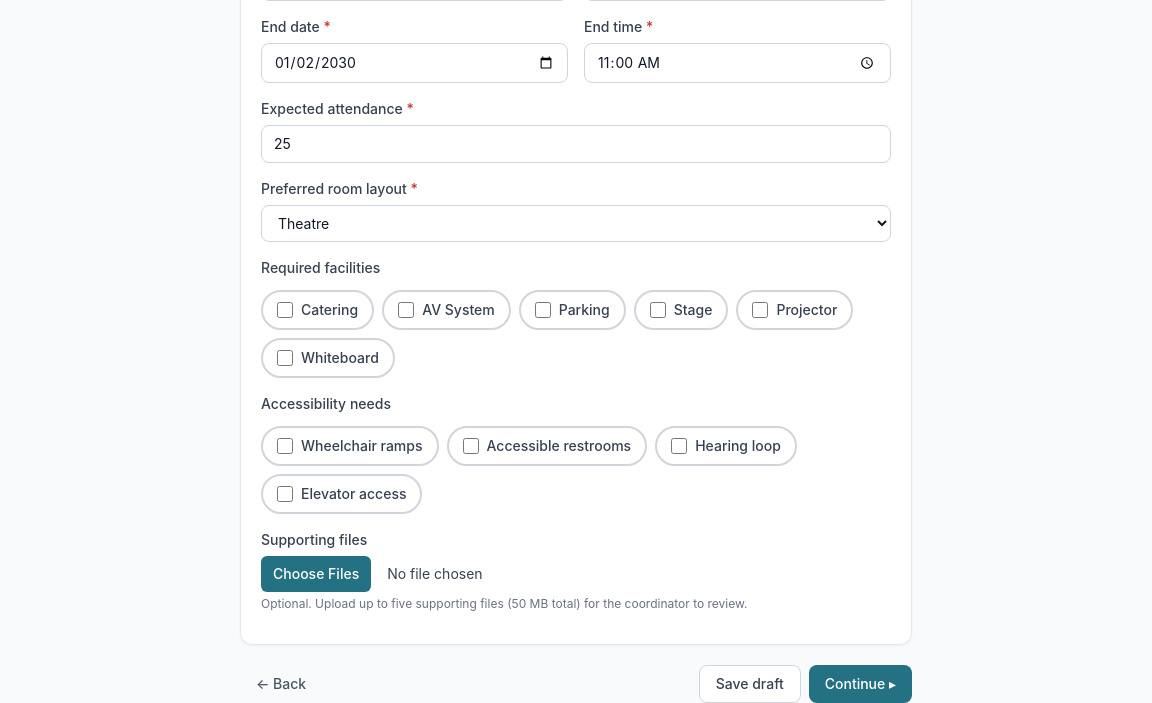
Test case: SPM-37 Q2 functional cases › Q2-001 saves incomplete values from wizard step 1
(page scrolled)
Click the button "Save draft" at (750, 684), box [699,665,801,702]
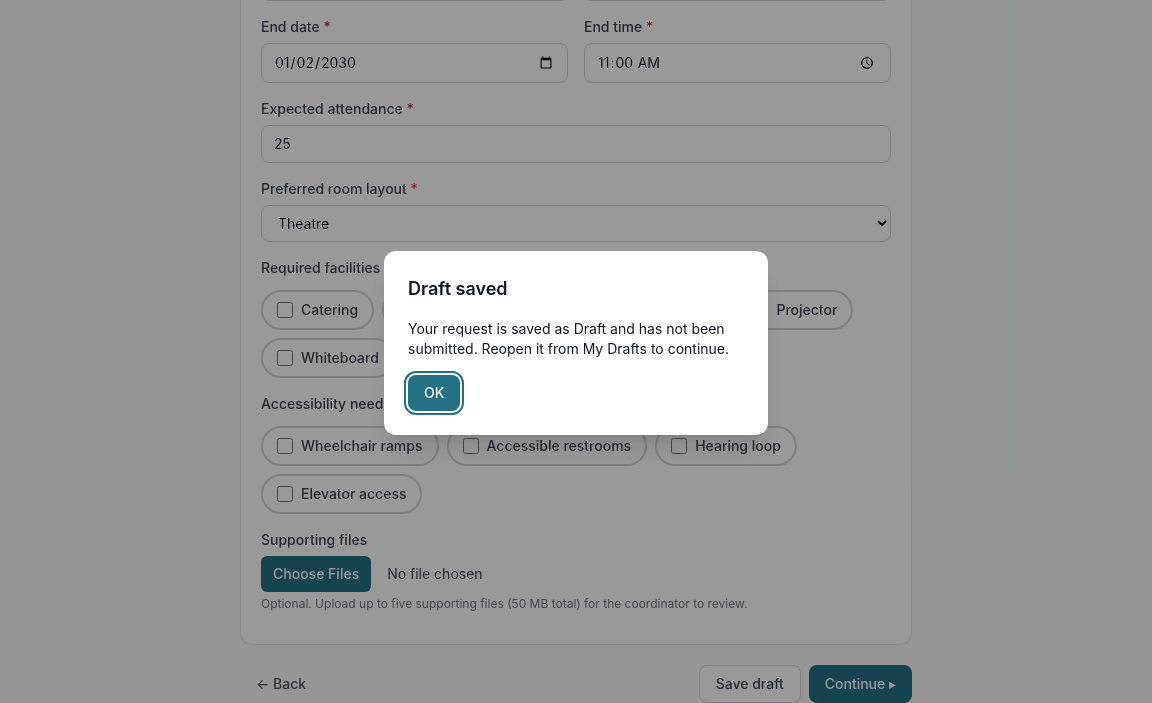
Expected: the dialog is shown, [384,251,768,435]
